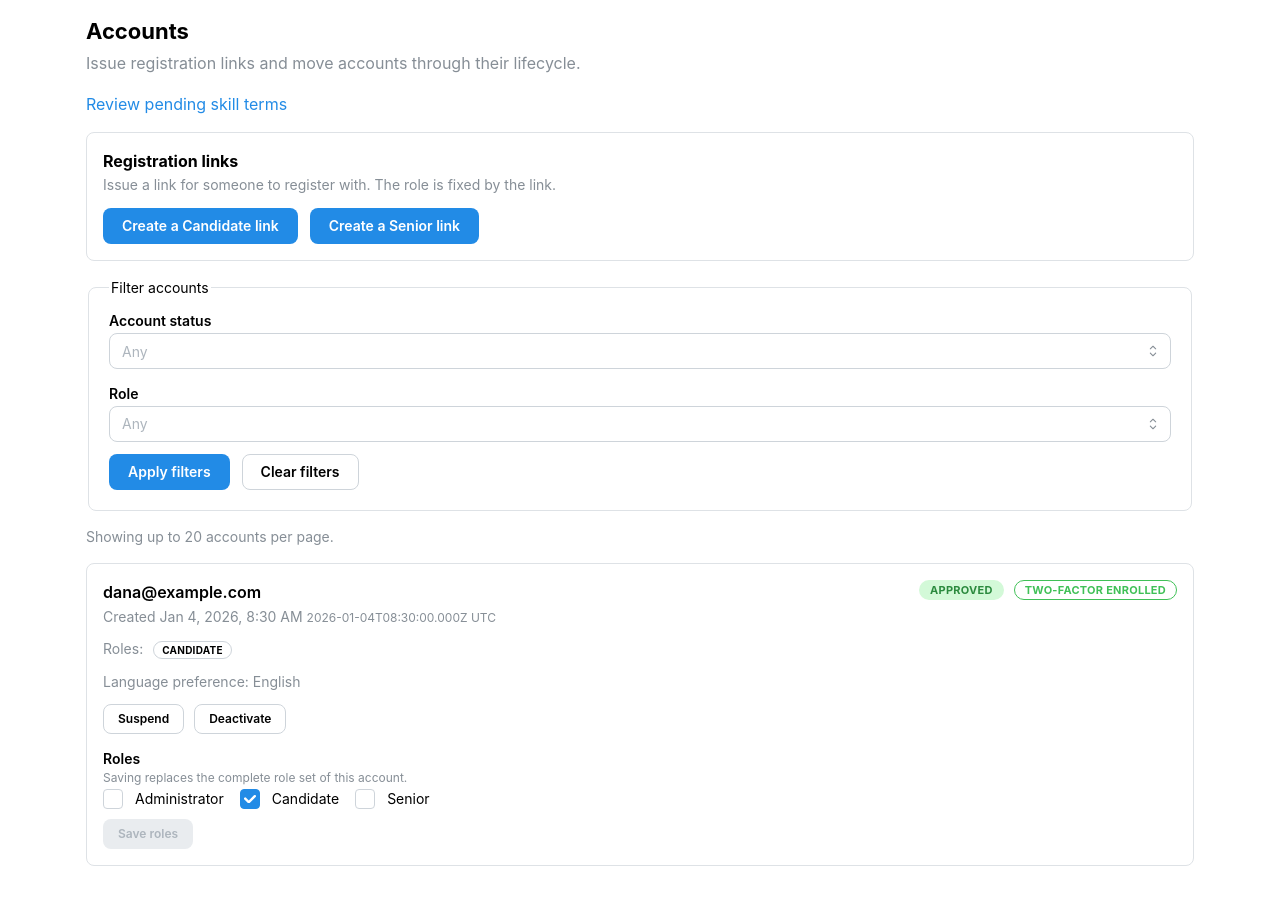
Test case: the role control on an Admin-plus-other target set (Req 16 AC14) › submits the complete set once ADMIN stands alone
This screenshot has width=1280, height=900.
Click the checkbox with test id "account-role-ADMIN-acc-1".
click(113, 799)  # box [103,789,123,809]
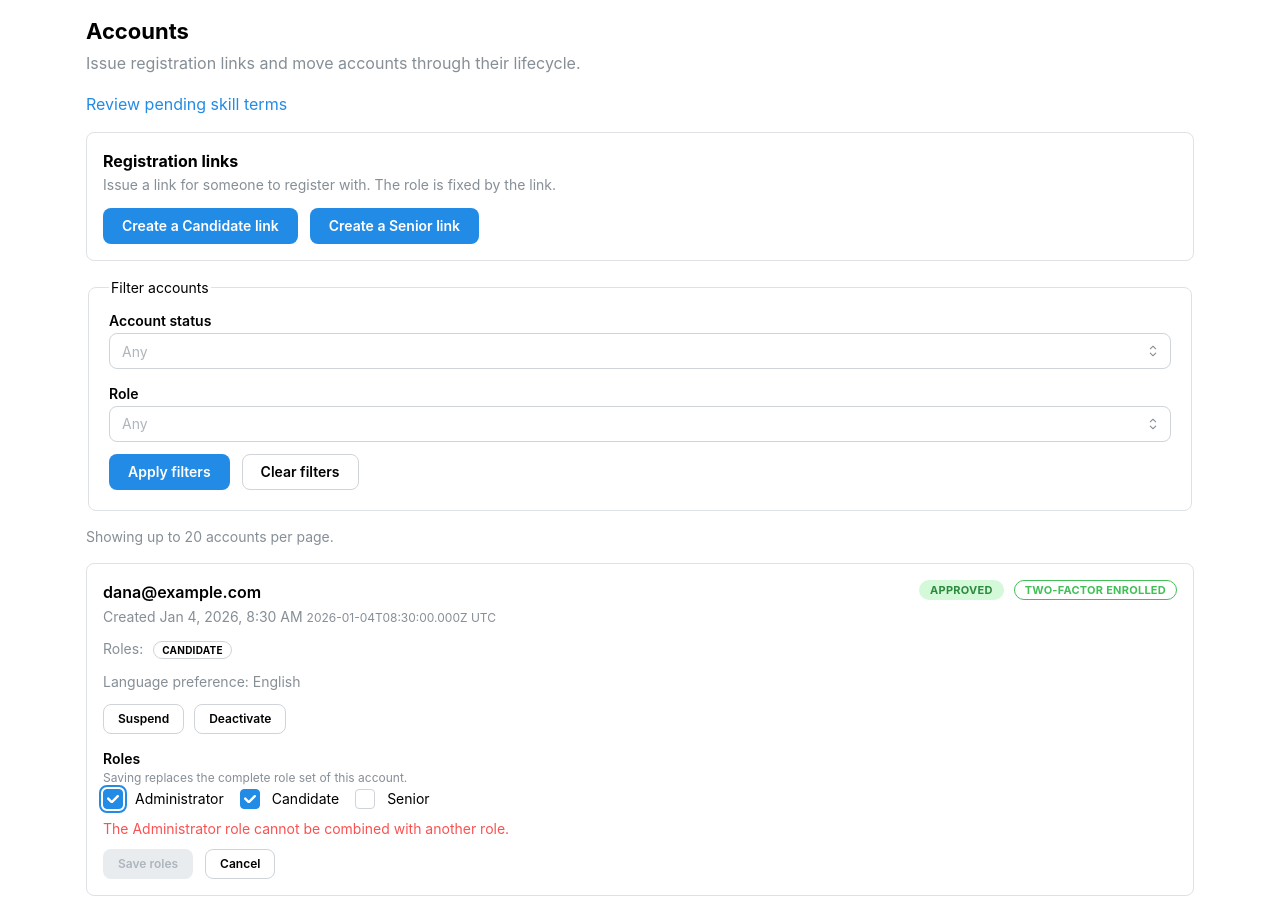
Click the checkbox with test id "account-role-CANDIDATE-acc-1".
click(250, 799)  # box [240,789,260,809]
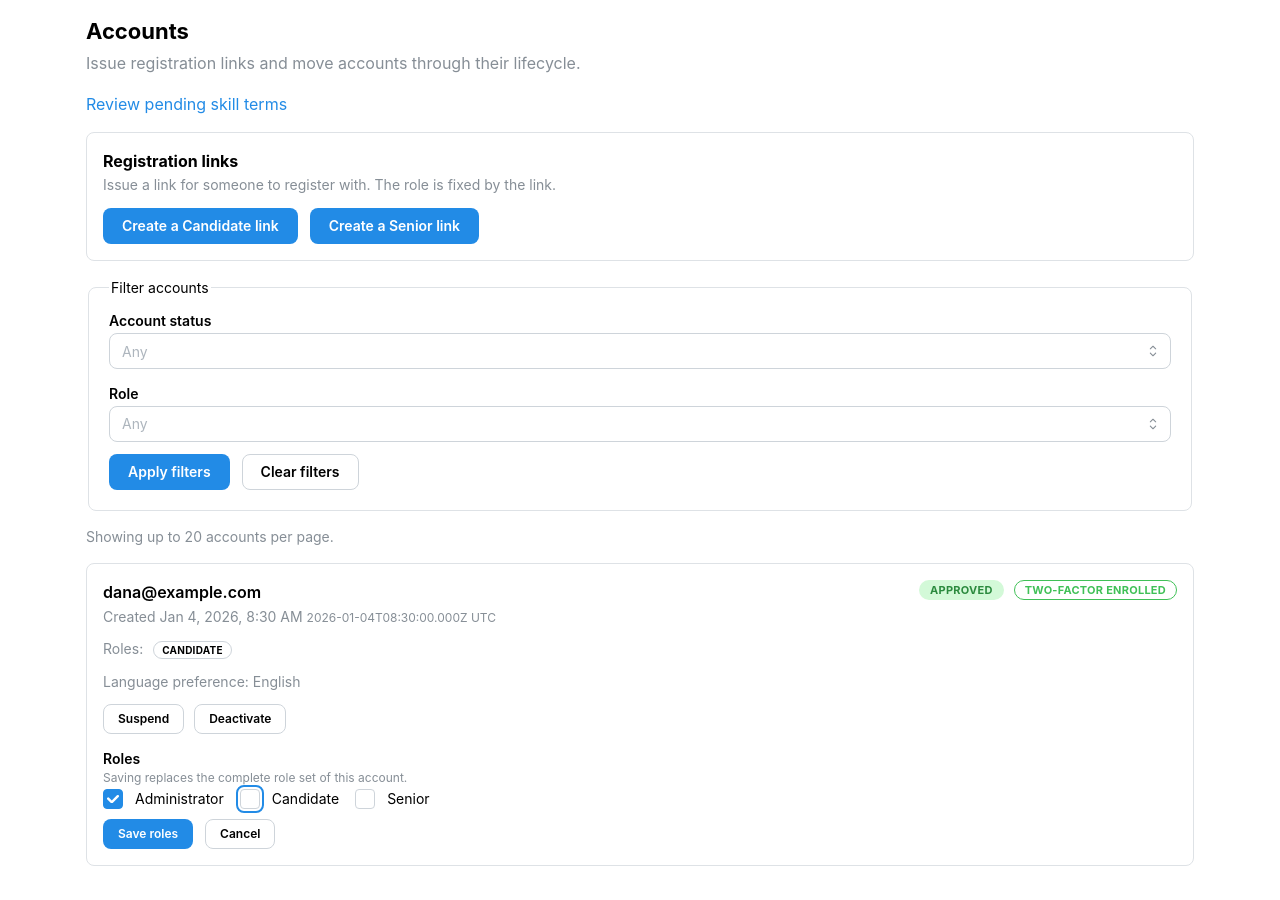
Check: the text with test id "account-roles-refusal-acc-1" is gone
Check: the button with test id "account-roles-save-acc-1" is enabled
Click the button with test id "account-roles-save-acc-1".
click(148, 834)  # box [103,819,193,849]
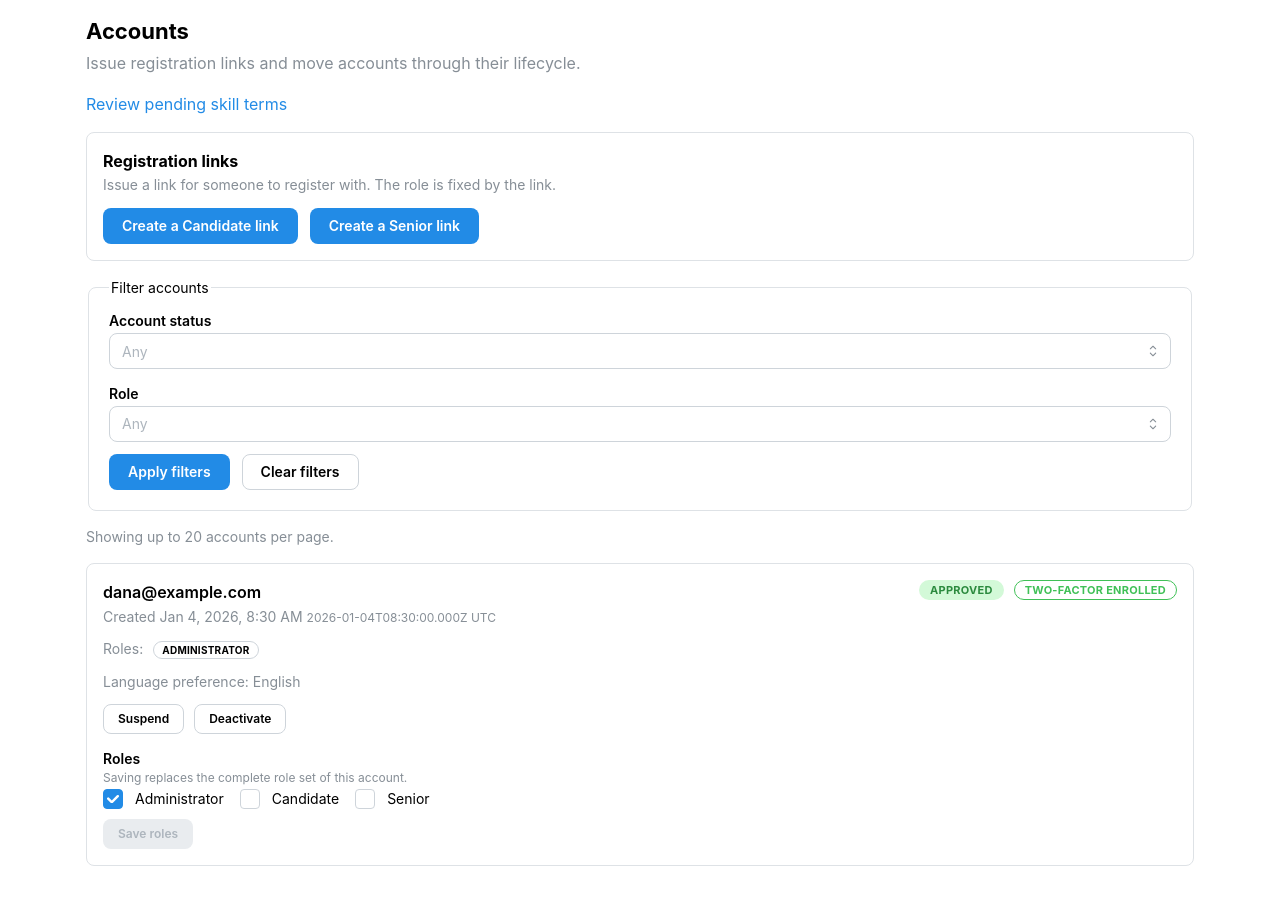
Check: the element with test id "account-role-set-acc-1" reads "Administrator", box [162,644,250,656]
